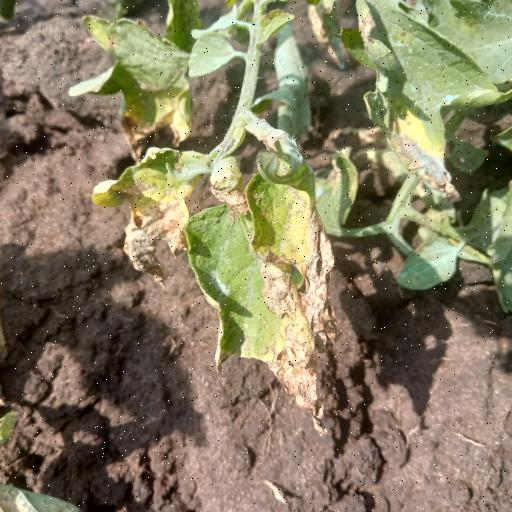Tomato_Brown_Spots: (181, 178, 344, 422), (358, 0, 497, 212), (63, 14, 207, 156)
